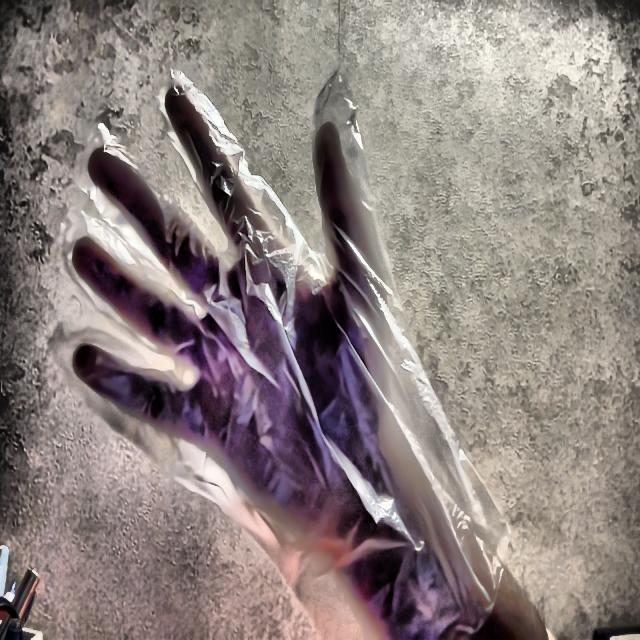gloved: (30, 61, 567, 630)
